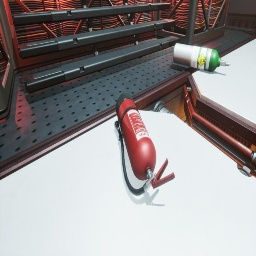0: (173, 43, 231, 72)
FireExtinguisher ]: (115, 92, 175, 196)
